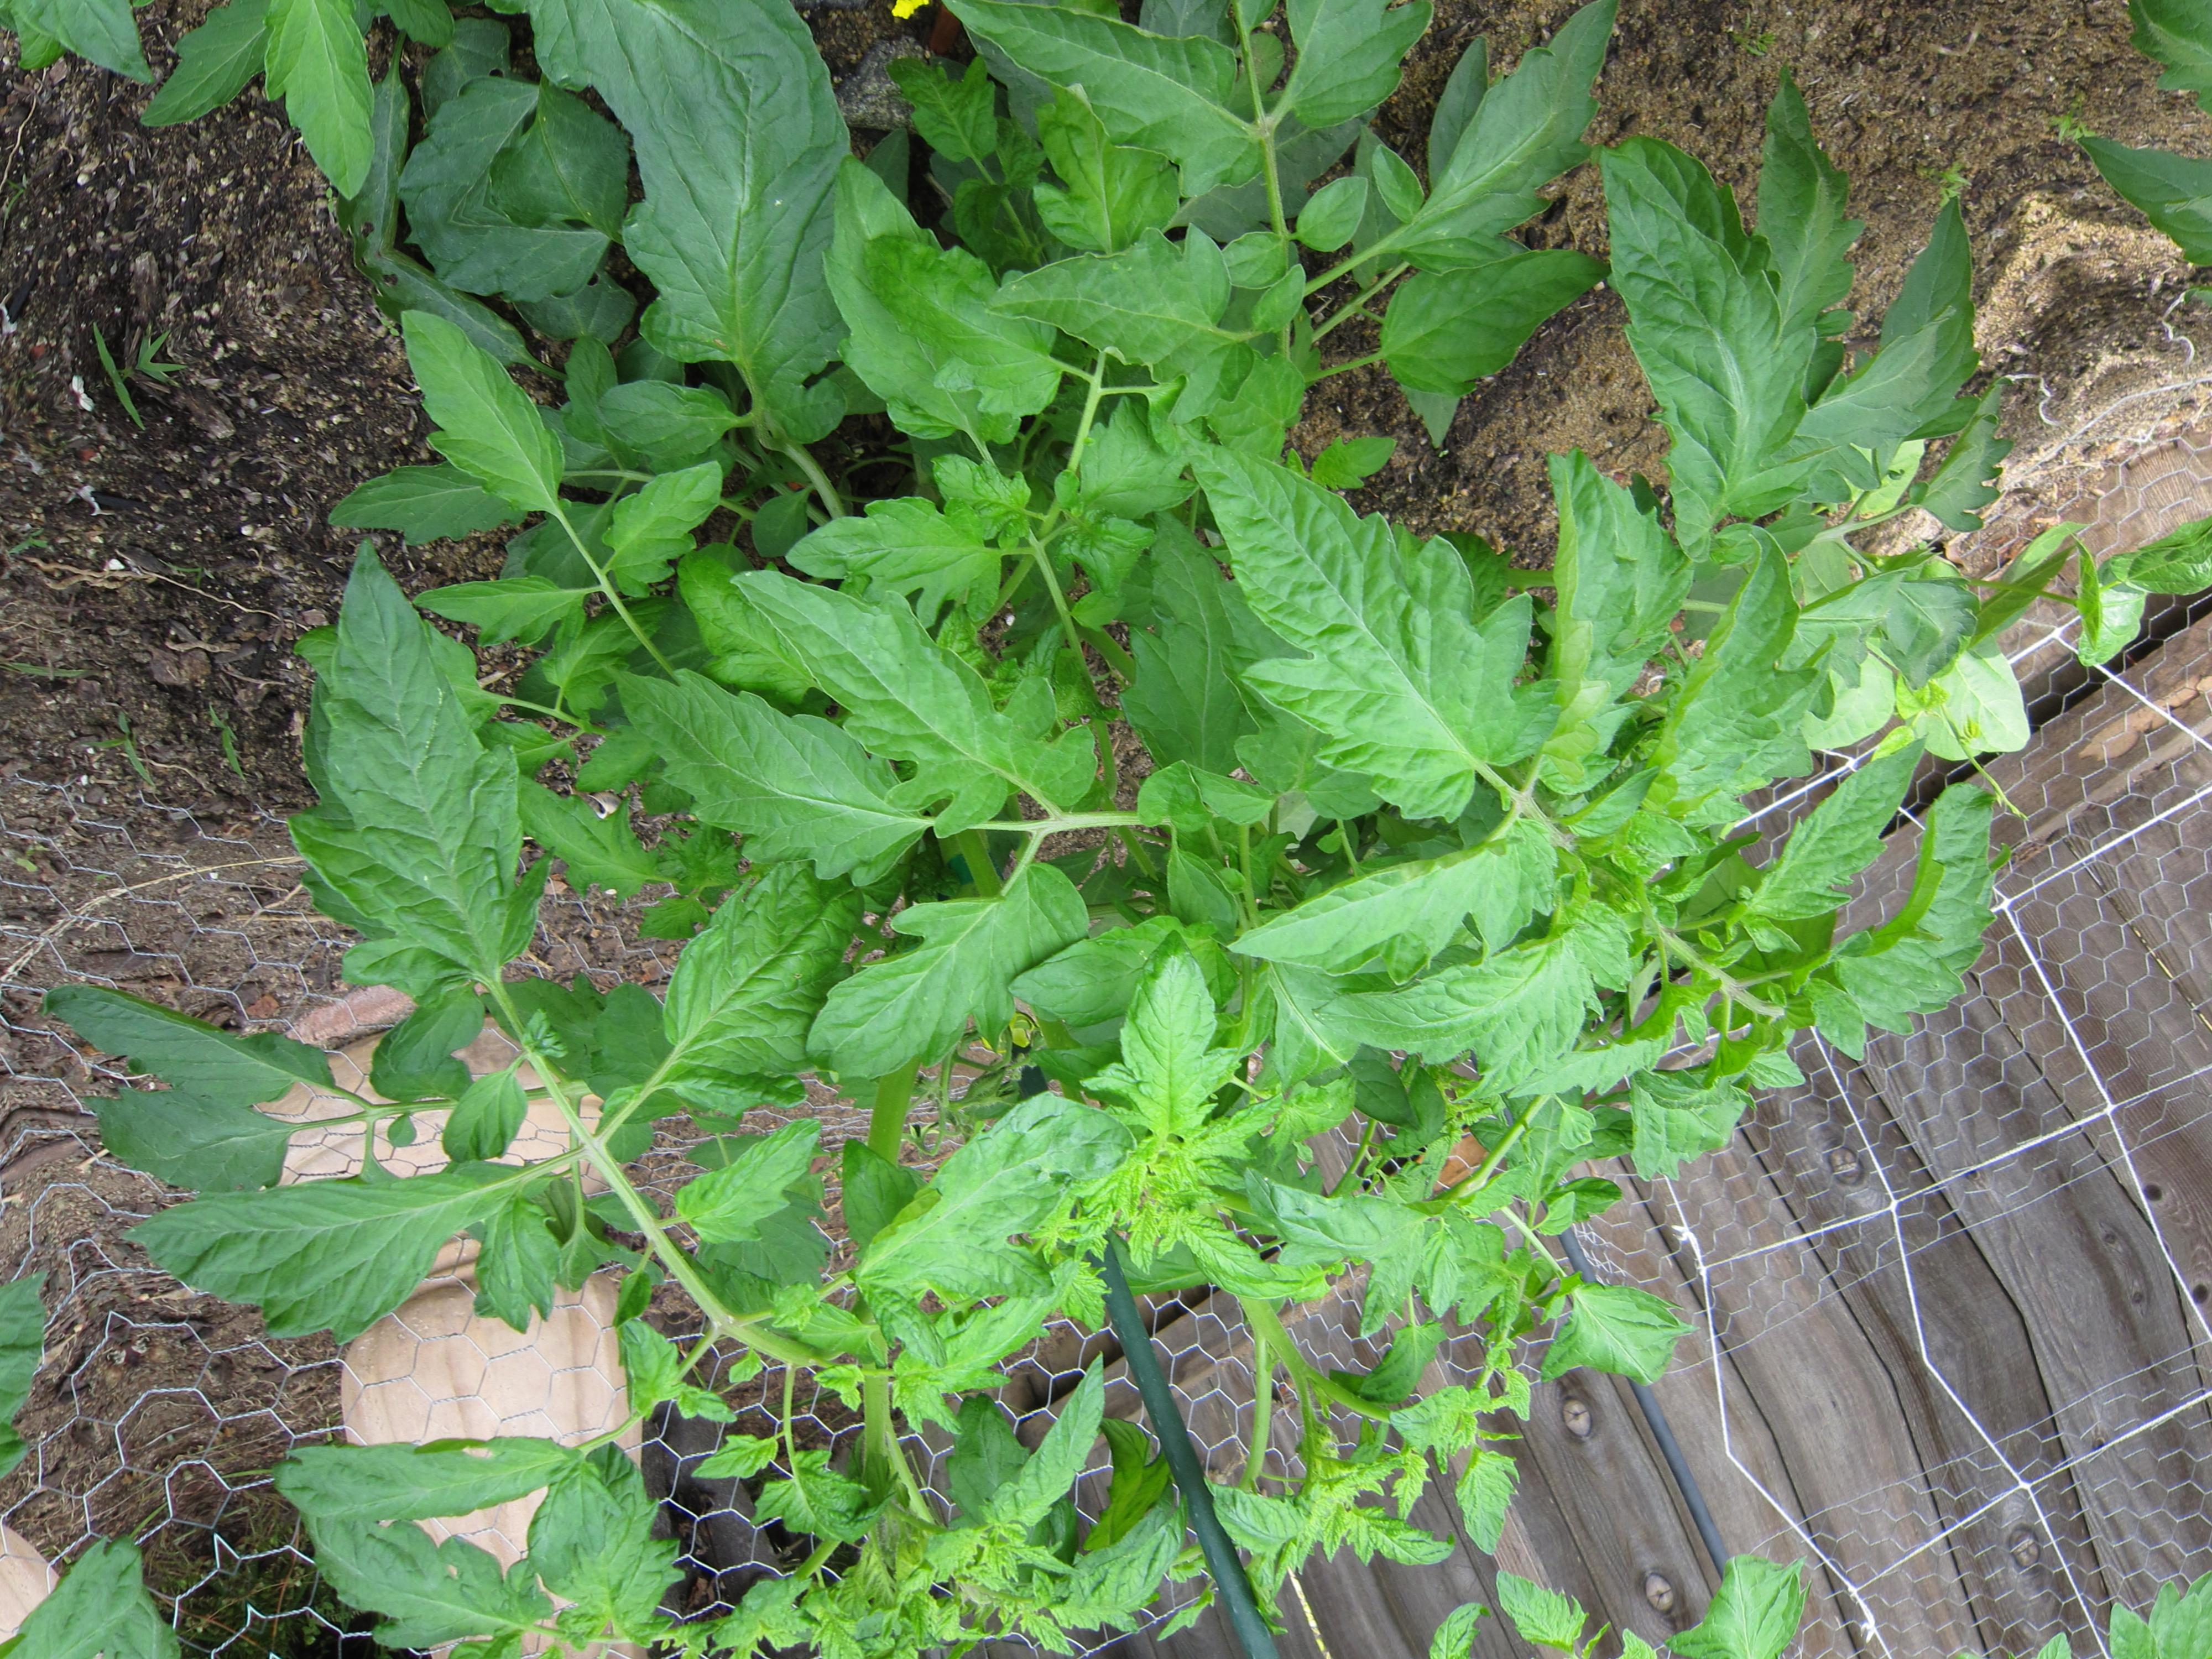Tomato leaf: (186, 476, 608, 1018), (1508, 92, 1885, 610), (1163, 383, 1559, 854), (141, 1025, 597, 1427), (742, 1054, 1205, 1403), (566, 64, 941, 460), (594, 579, 949, 974), (1723, 748, 2087, 1098), (1029, 471, 1346, 868), (1315, 828, 1709, 1141), (747, 798, 1130, 1115), (239, 1290, 596, 1615), (1435, 446, 1747, 805), (1209, 746, 1576, 1047), (714, 490, 1014, 856), (30, 885, 361, 1213), (1726, 209, 2059, 521), (968, 134, 1298, 446), (921, 0, 1296, 272), (1336, 0, 1677, 288), (831, 155, 1118, 483), (1562, 624, 1888, 894), (1665, 699, 1975, 978), (725, 408, 1028, 676), (885, 1321, 1174, 1586), (1249, 1101, 1533, 1370), (1449, 932, 1749, 1171), (1332, 195, 1623, 437), (1209, 805, 1534, 1011), (1050, 920, 1275, 1175), (1193, 0, 1552, 155), (639, 1094, 874, 1276), (1507, 1222, 1710, 1420)
